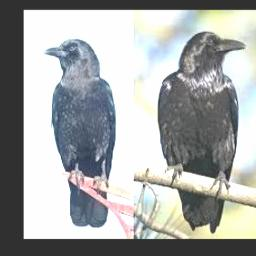Crow: (157, 31, 247, 234), (42, 38, 117, 227)
